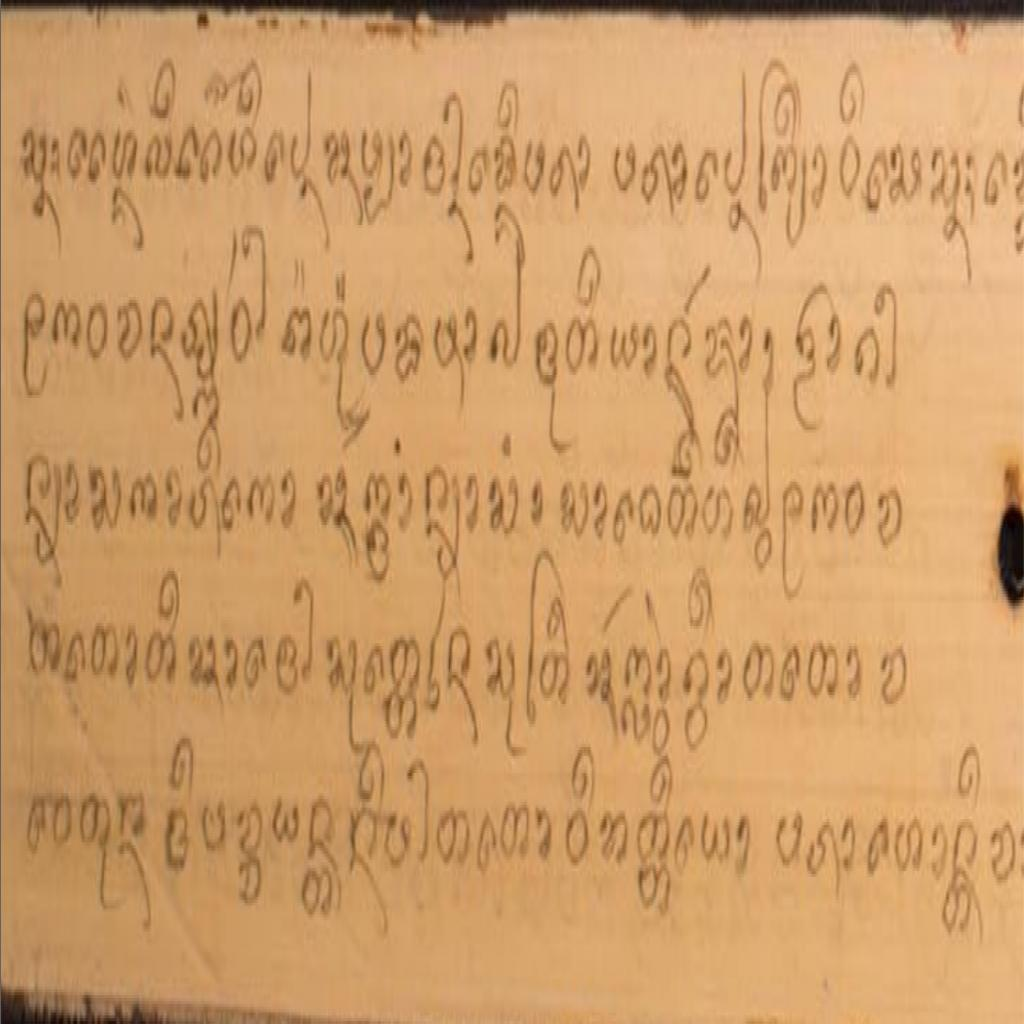LN001: (51, 296, 83, 352)
